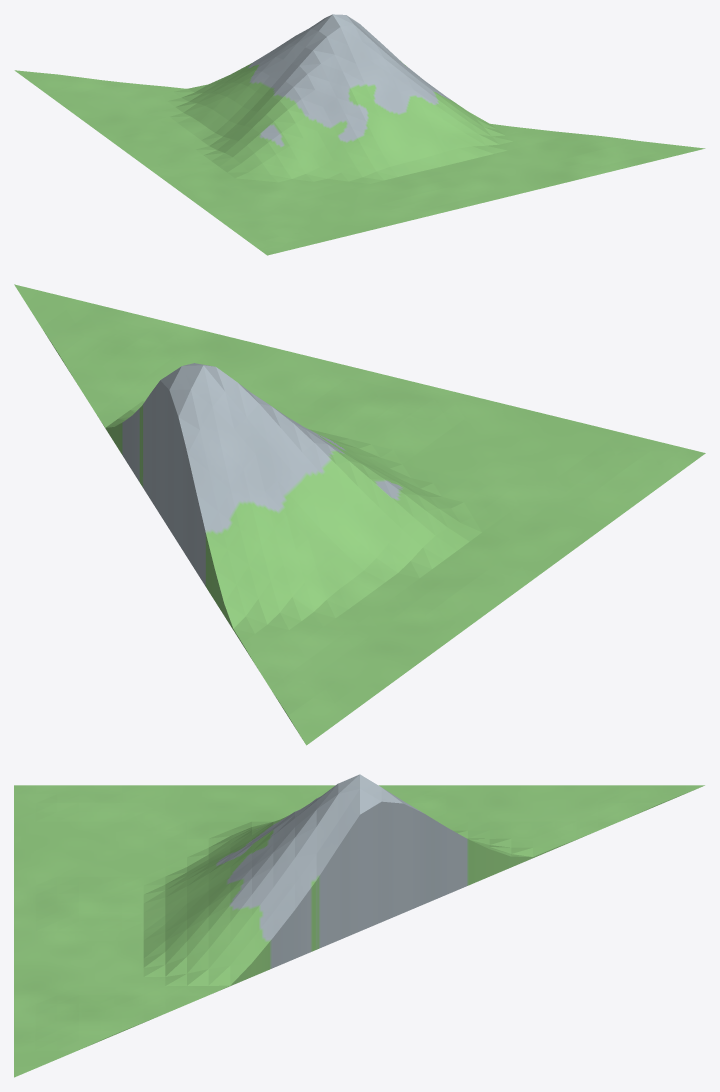
File: Grass_RockyMountains_12_NW.obj
3 views of the same model, one above another, from view 1: azimuth 30°, elevation 25°; view 2: azimuth 150°, elevation 25°; view 3: azimuth 270°, elevation 25° (orthographic). The views are drawn at different scales.
Bounding box in the file's own units: 10 × 2.21 × 10.
1 material, 1 textured.
